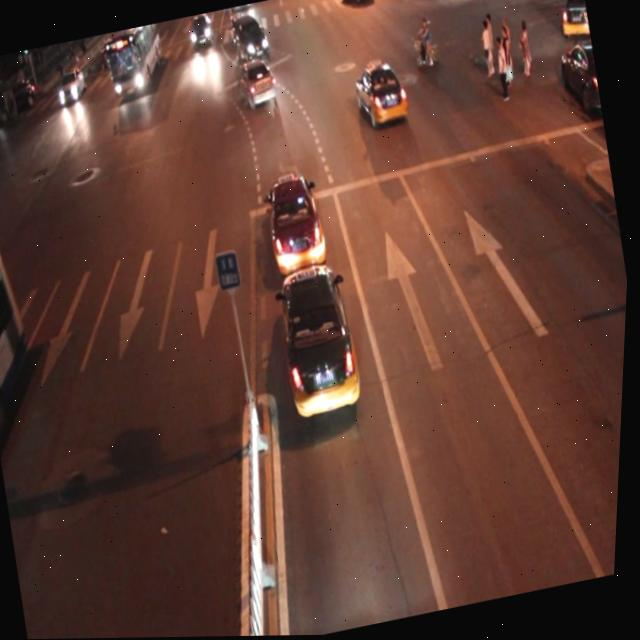car: (270, 256, 372, 417), (260, 170, 334, 279), (351, 56, 411, 132), (234, 56, 281, 111), (228, 13, 274, 69)
van: (0, 220, 48, 423), (103, 24, 170, 97)
